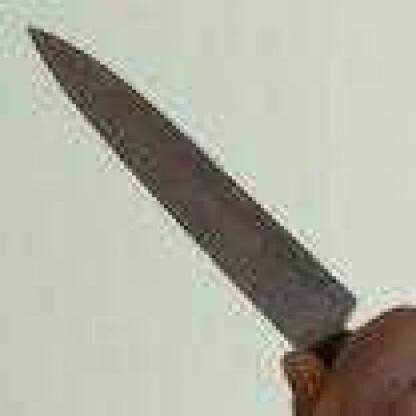Knife: (23, 23, 416, 416)
